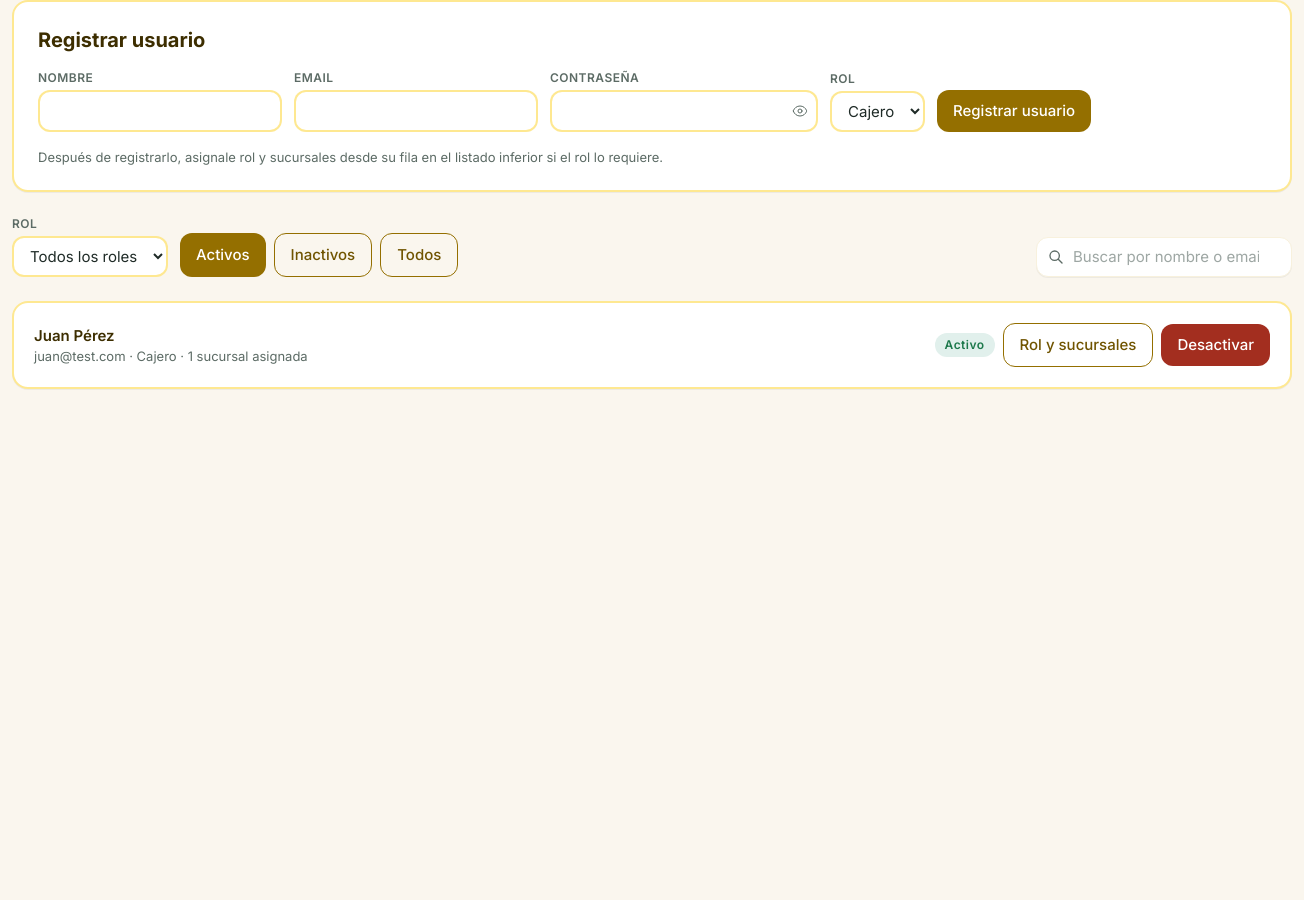
Scenario: Usuarios › muestra el mensaje real del backend si falla la asignación de rol y sucursales
Click the button "Rol y sucursales".
click(1078, 345)  # box [1002,323,1153,367]
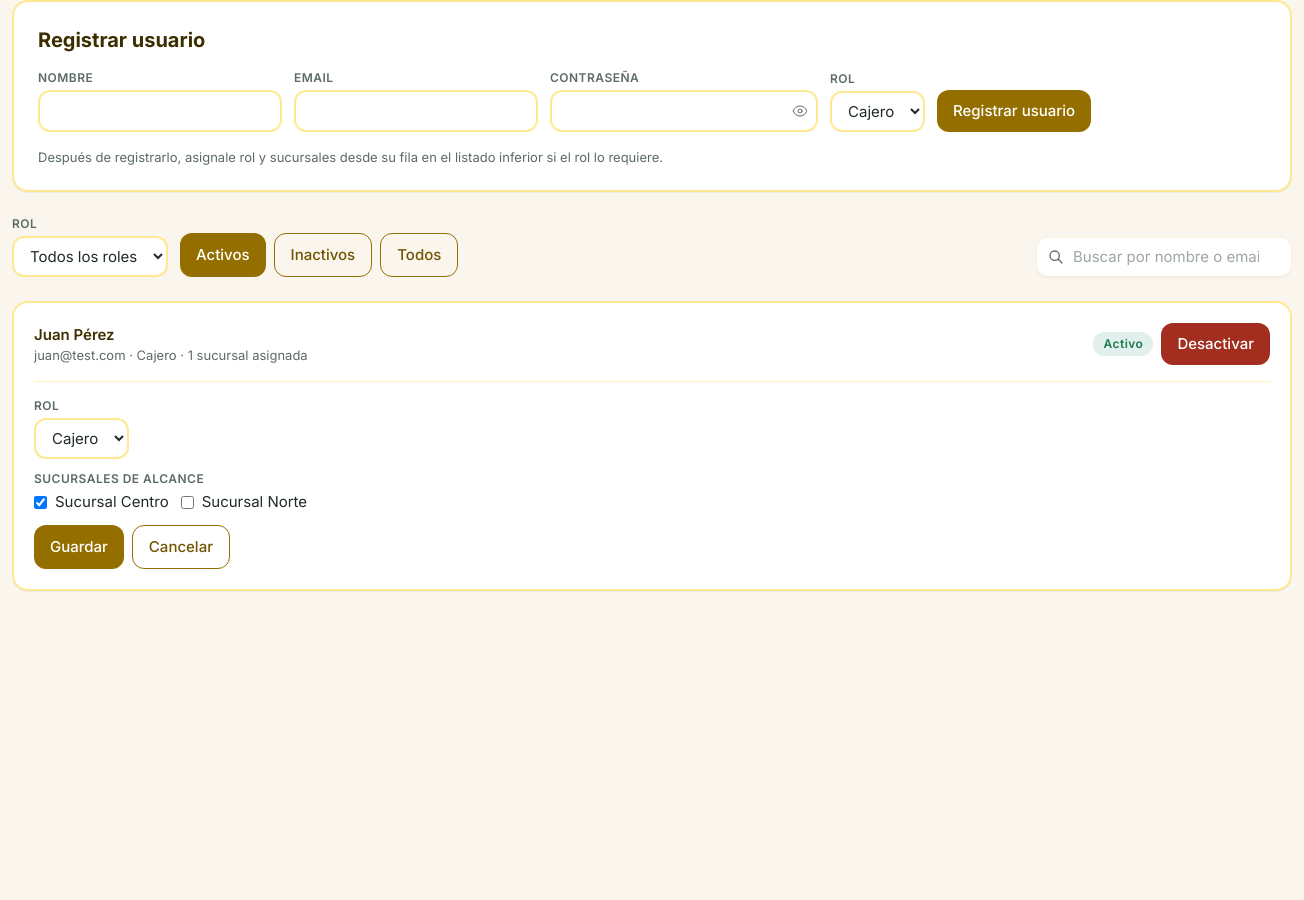
Click the button "Guardar".
click(79, 547)  # box [34,525,124,569]
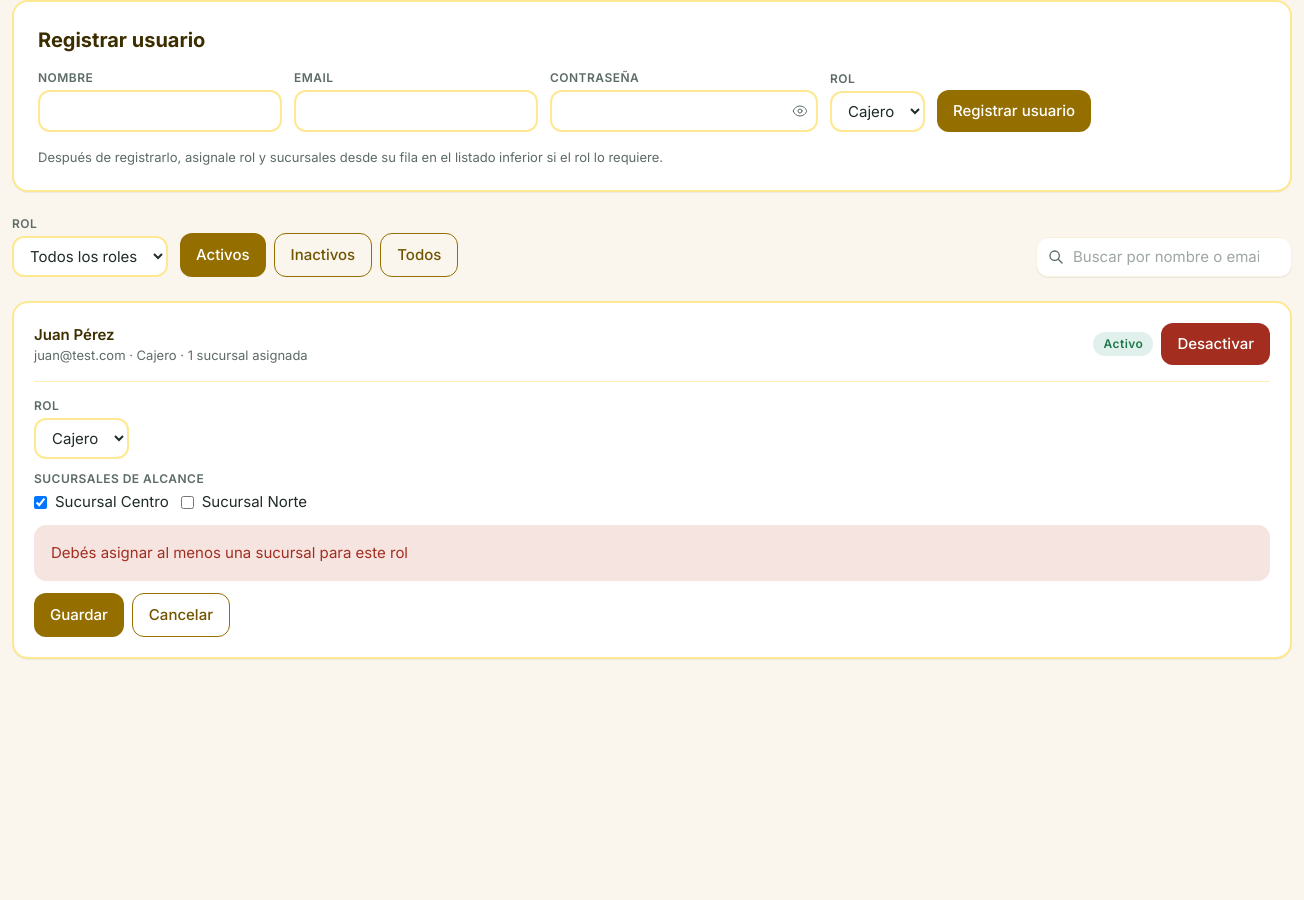
Result: the text "Debés asignar al menos una sucursal para este rol" is shown at [51,543,408,562]
